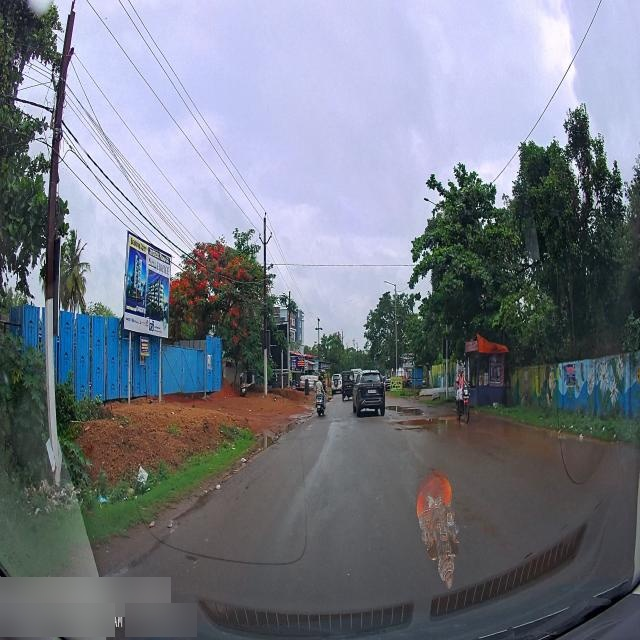pothole: (394, 417, 455, 430), (389, 402, 420, 416)
